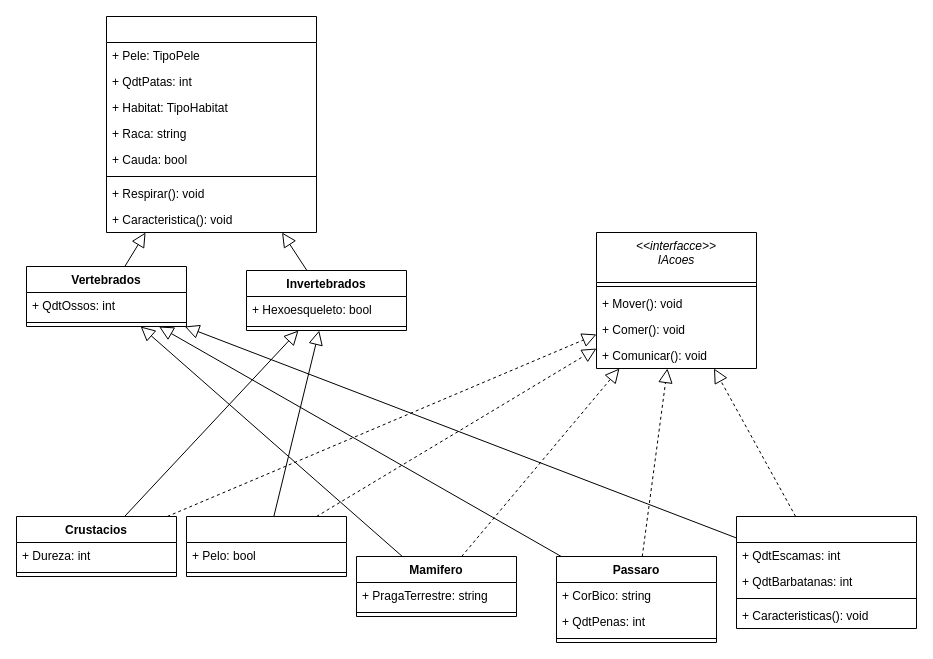
Image size: 933x659. Some labels were removed from this diagram. The box of each missing label's shape, as (x1, y1, x2, y2) in pixels:
Animal: (106, 16, 316, 232)
Aracnidio: (186, 516, 346, 576)
Peixe: (736, 516, 916, 628)
